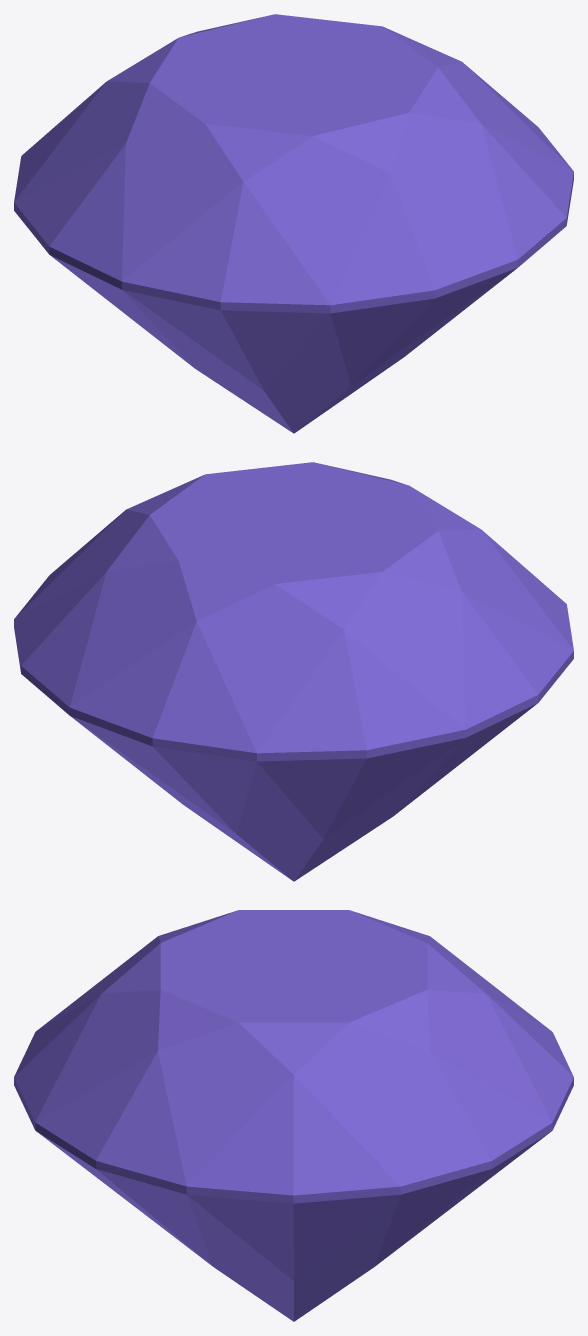
Rendered from BrilliantCut.fbx.
The picture shows the model from 3 angles, top to bottom: view 1: azimuth 30°, elevation 25°; view 2: azimuth 150°, elevation 25°; view 3: azimuth 270°, elevation 25°; orthographic projection.
Visible parts, largest first — view 1: brilliant cut.004; view 2: brilliant cut.004; view 3: brilliant cut.004.
Boxes of the visible parts, bbox=[...] form: brilliant cut.004: bbox=[14, 14, 573, 433]; brilliant cut.004: bbox=[14, 462, 573, 881]; brilliant cut.004: bbox=[14, 910, 573, 1321].
Size of the model in its own units: 316 by 222 by 316.
